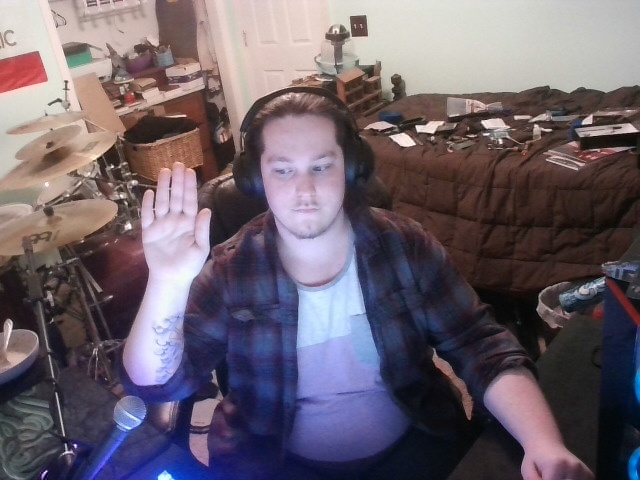hello: (121, 144, 228, 304)
